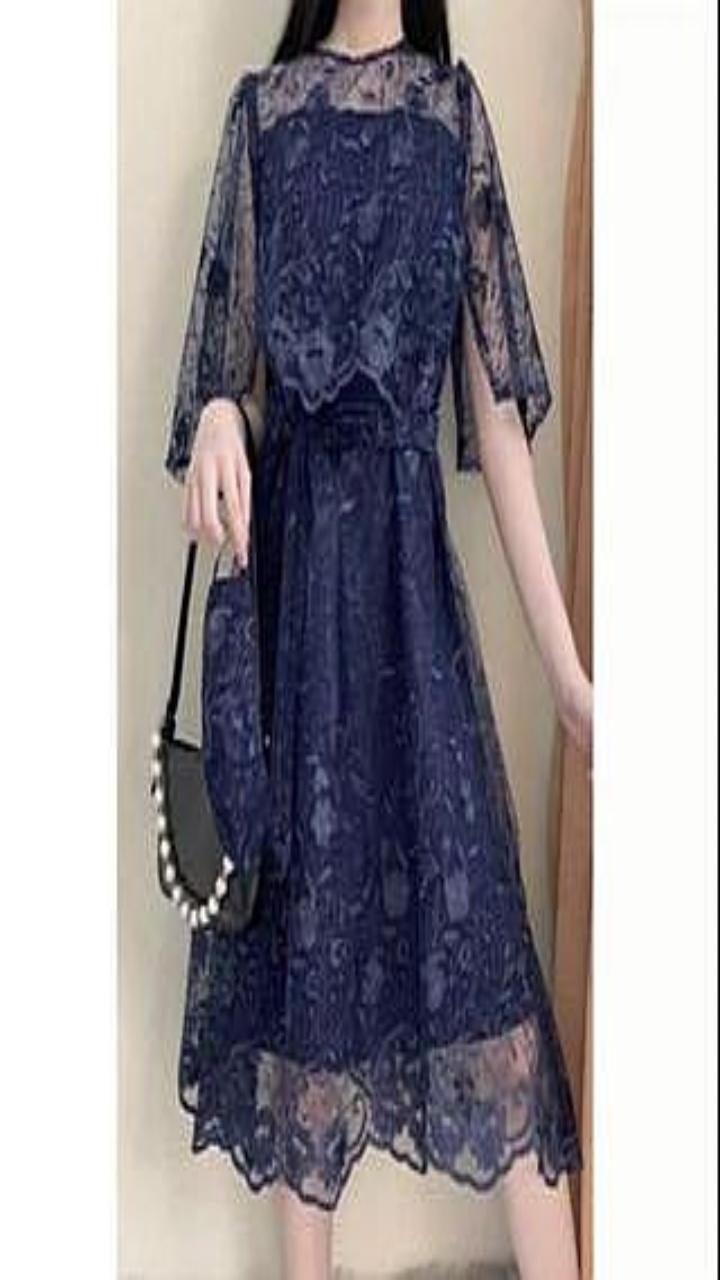Dresses: (166, 40, 580, 1206)
